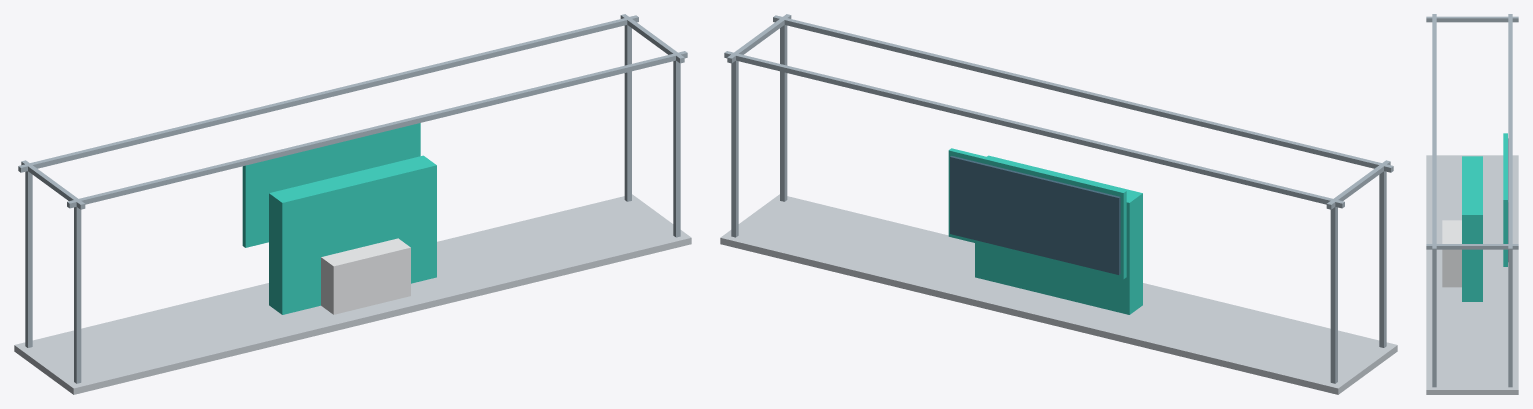
3 renders of one model, left to right at view 1: azimuth 30°, elevation 25°; view 2: azimuth 150°, elevation 25°; view 3: azimuth 270°, elevation 25°, orthographic. The views are drawn at different scales.
Parts seen in each view (by area): view 1: Exhibition Booth Concept; view 2: Exhibition Booth Concept; view 3: Exhibition Booth Concept.
Part boxes in pixels (x1,y1,x2,y2): Exhibition Booth Concept: [14, 14, 691, 394]; Exhibition Booth Concept: [720, 14, 1397, 394]; Exhibition Booth Concept: [1426, 14, 1518, 394].
Size of the model in its own units: 12 by 3.49 by 2.
